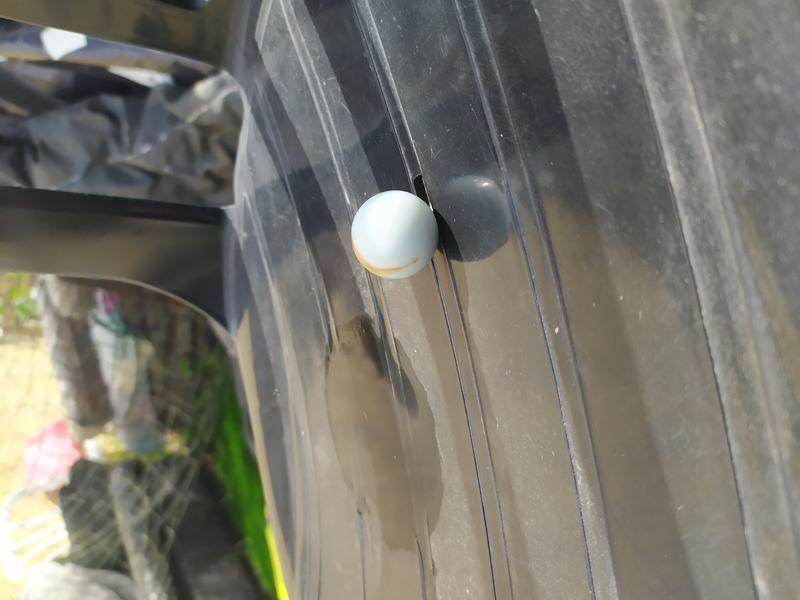Warning: (347, 187, 442, 282)
